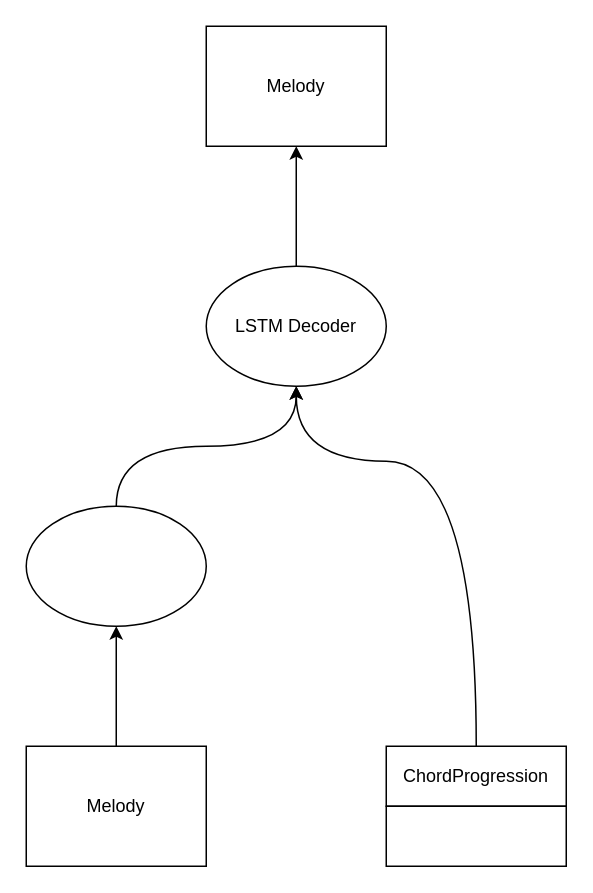
Some shapes in this 593 by 893 pixel diagram are drawn without their labels. Here are the shapes that lost their labels. From the top down, the centre of each, then its label:
the point at 115,565: LSTM Encoder
the point at 475,835: Major or Minor
